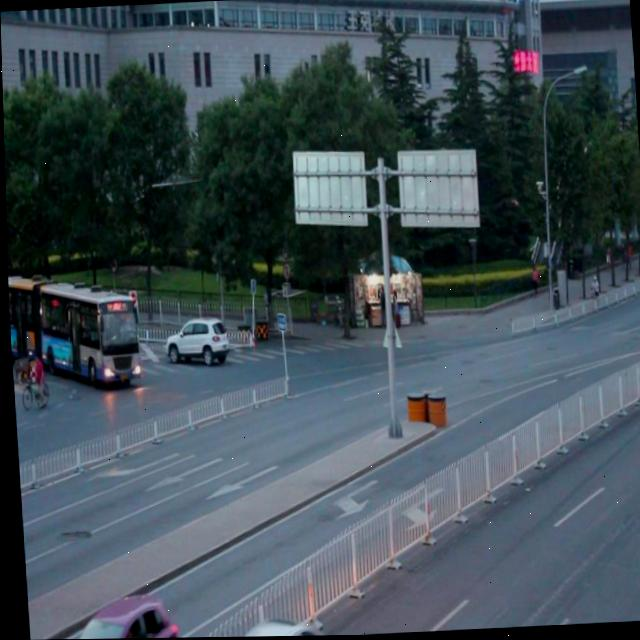car: (61, 586, 176, 639), (162, 312, 227, 368)
van: (6, 263, 138, 390)
